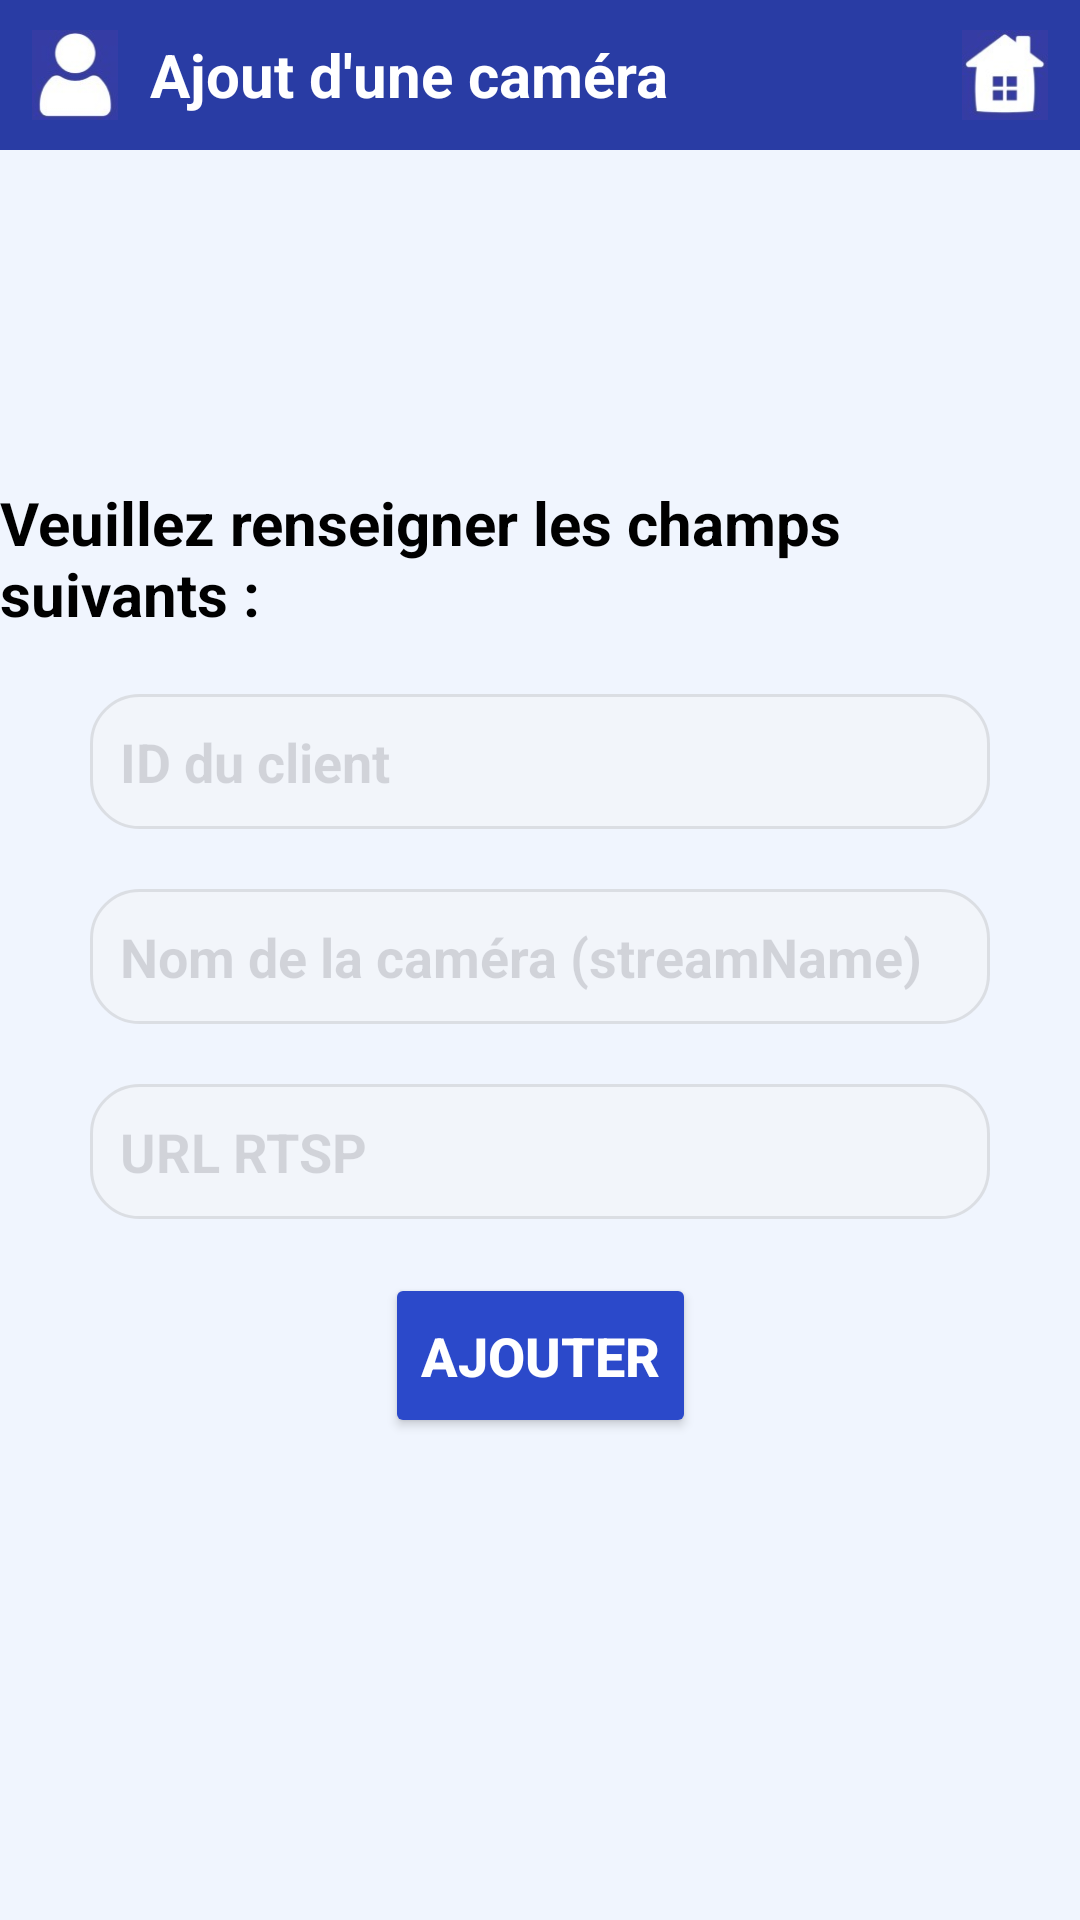

Point at icon controls on the screen. Image size 1080 x 1920, points as point (x, y).
Icône vers le menu: point (1005, 74)
Icône vers le profil utilisateur: point (75, 75)
